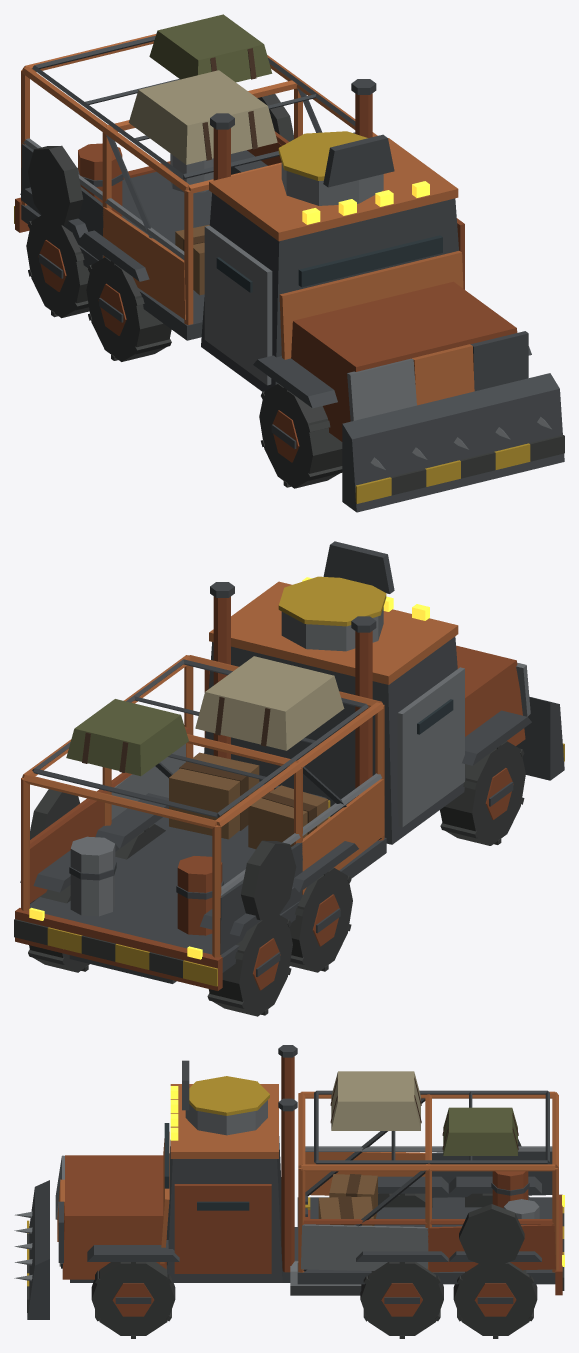
Rendered from vehicle_rig_l3.glb.
The picture shows the model from 3 angles, top to bottom: view 1: azimuth 30°, elevation 25°; view 2: azimuth 150°, elevation 25°; view 3: azimuth 270°, elevation 25°; orthographic projection. The views are drawn at different scales.
Visible parts, largest first — view 1: body, wheel_fr, wheel_mr, wheel_rr; view 2: body, wheel_fr, wheel_rr, wheel_mr, wheel_rl, wheel_ml; view 3: body, wheel_fl, wheel_ml, wheel_rl, wheel_mr, wheel_rr.
Boxes of the visible parts, <box> form: body: <box>14,14,564,512</box>; wheel_fr: <box>259,383,342,488</box>; wheel_mr: <box>86,257,171,361</box>; wheel_rr: <box>26,215,89,318</box>; body: <box>14,541,564,990</box>; wheel_fr: <box>440,741,525,845</box>; wheel_rr: <box>207,914,292,1016</box>; wheel_mr: <box>289,867,352,972</box>; wheel_rl: <box>28,885,89,972</box>; wheel_ml: <box>115,824,165,859</box>; body: <box>14,1045,564,1319</box>; wheel_fl: <box>91,1262,175,1338</box>; wheel_ml: <box>360,1262,443,1338</box>; wheel_rl: <box>453,1262,537,1338</box>; wheel_mr: <box>378,1193,432,1207</box>; wheel_rr: <box>462,1193,529,1207</box>.
Bounding box in the file's own units: 2.72 × 3.36 × 7.38.
